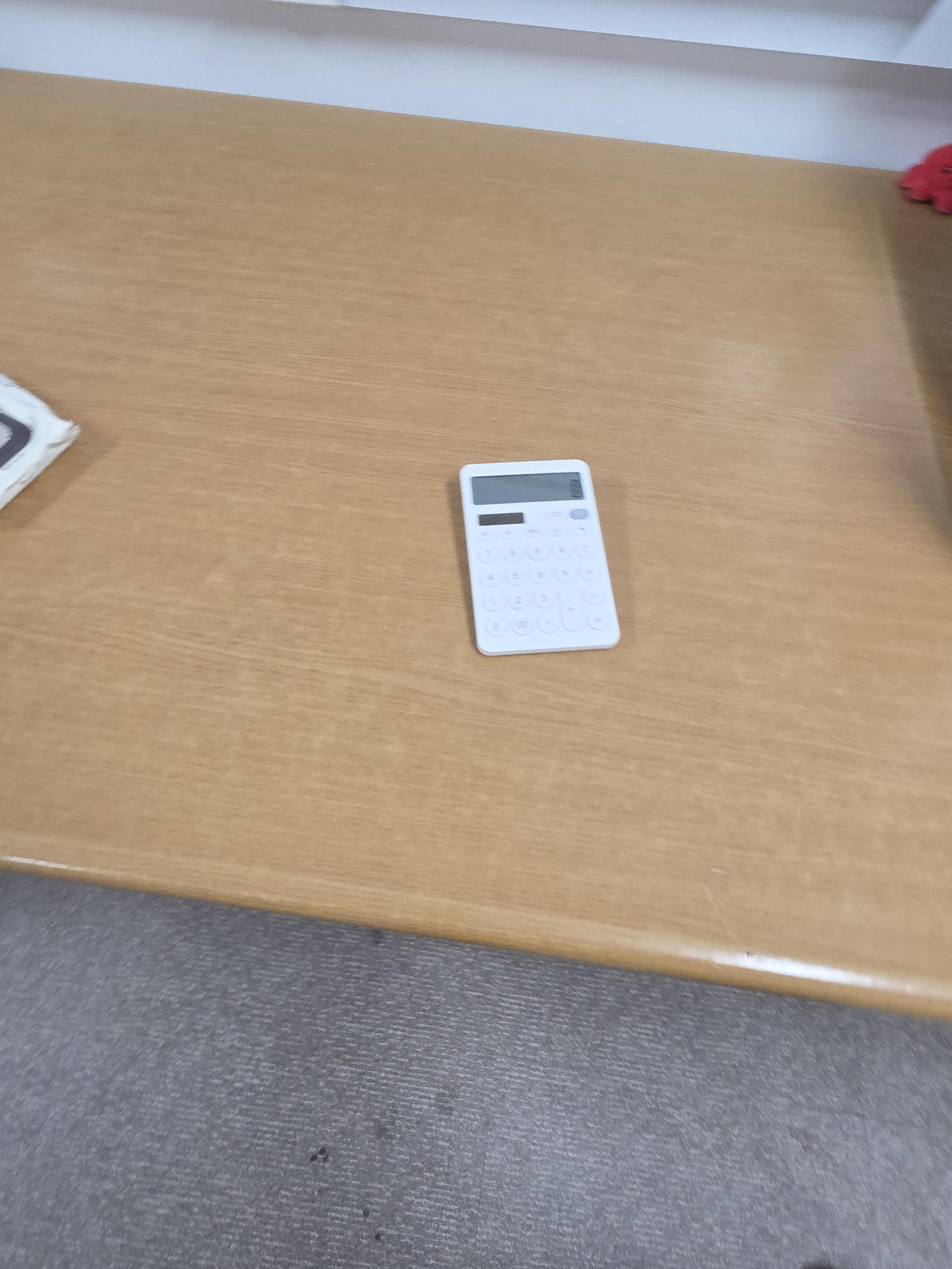calculator: (457, 459, 621, 657)
